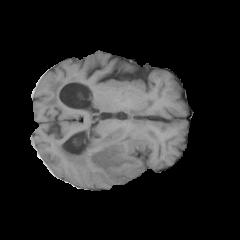glioma: (56, 127, 156, 183)
